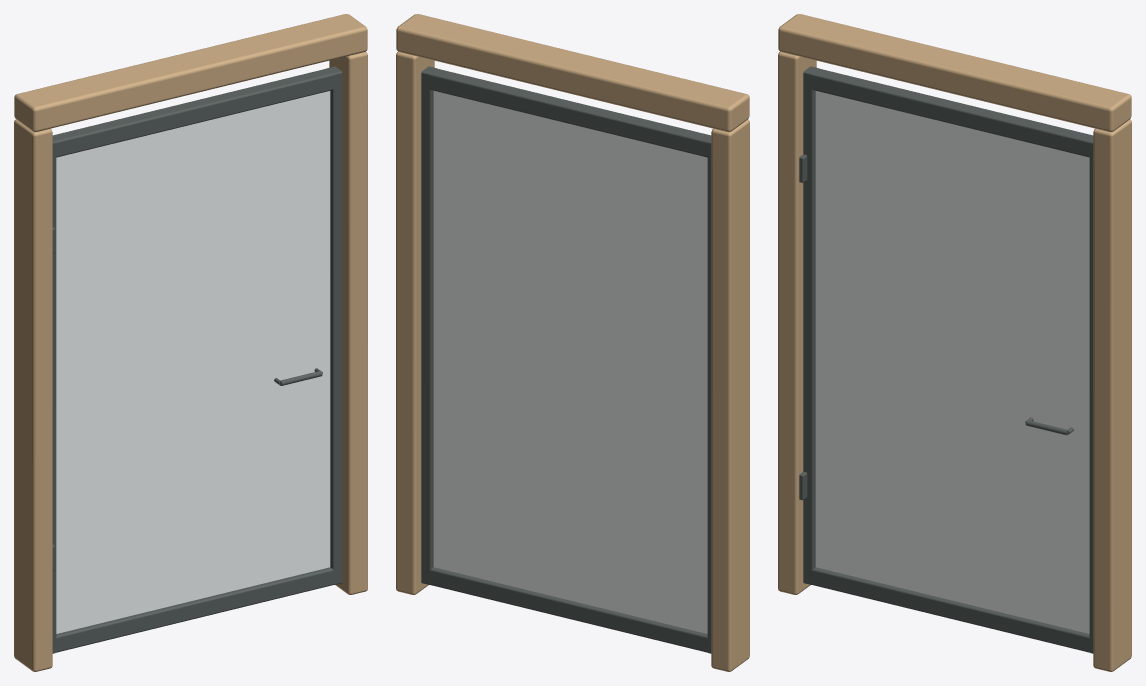
Rendered from public-library-and-reading-garden-public-library-and-r-f26e3987__30903.glb.
3 renders of one model, left to right at view 1: azimuth 30°, elevation 25°; view 2: azimuth 150°, elevation 25°; view 3: azimuth 330°, elevation 25°, orthographic.
Visible parts, largest first — view 1: public-library-and-reading-garden-library-entrance-door; view 2: public-library-and-reading-garden-library-entrance-door; view 3: public-library-and-reading-garden-library-entrance-door.
Boxes of the visible parts, bbox=[...] form: public-library-and-reading-garden-library-entrance-door: bbox=[14, 14, 367, 671]; public-library-and-reading-garden-library-entrance-door: bbox=[396, 14, 749, 671]; public-library-and-reading-garden-library-entrance-door: bbox=[778, 14, 1131, 671].
Size of the model in its own units: 1.66 by 2.67 by 0.1799.
